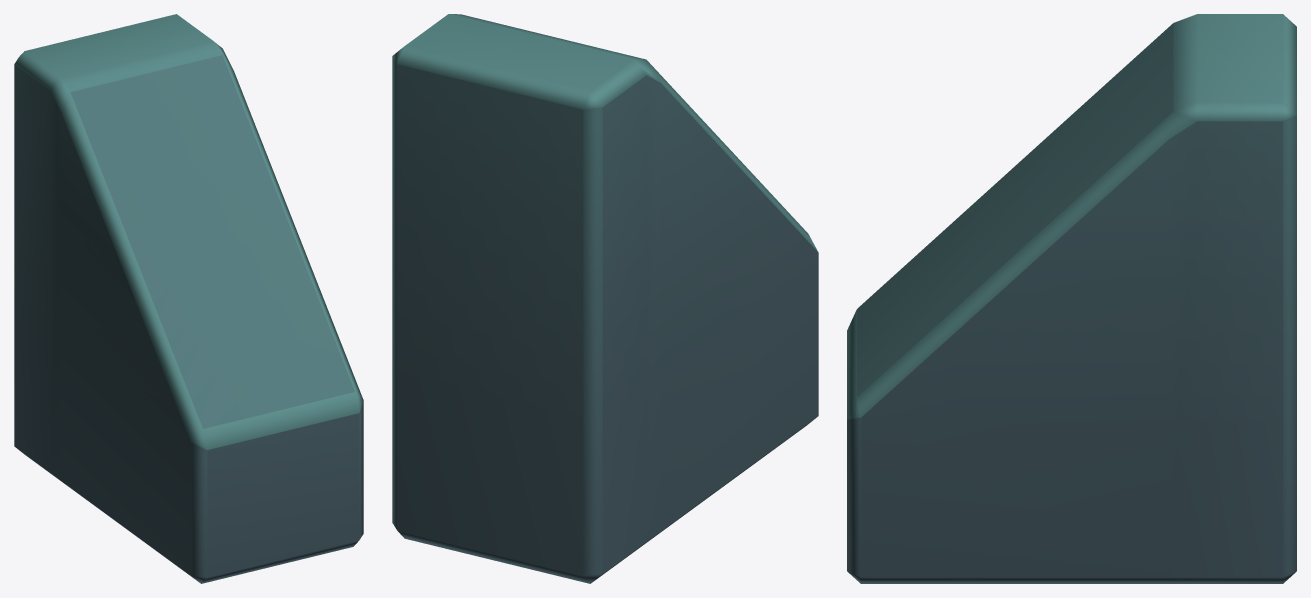
The model's file is stair_sidewall1.fbx.
3 views of the same model, side by side, from view 1: azimuth 30°, elevation 25°; view 2: azimuth 150°, elevation 25°; view 3: azimuth 270°, elevation 25° (orthographic). The views are drawn at different scales.
Visible parts, largest first — view 1: stair_sidewall1; view 2: stair_sidewall1; view 3: stair_sidewall1.
Boxes of the visible parts, left/top/right/bottom form: stair_sidewall1: left=14, top=14, right=363, bottom=583; stair_sidewall1: left=392, top=14, right=818, bottom=583; stair_sidewall1: left=847, top=14, right=1296, bottom=583.
Bounding box in the file's own units: 53.12 × 119 × 101.
